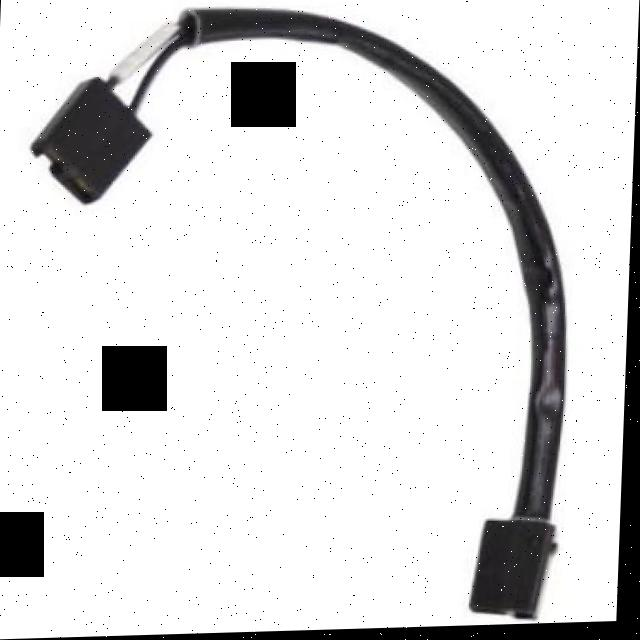connector: (24, 69, 161, 210), (472, 513, 563, 626)
